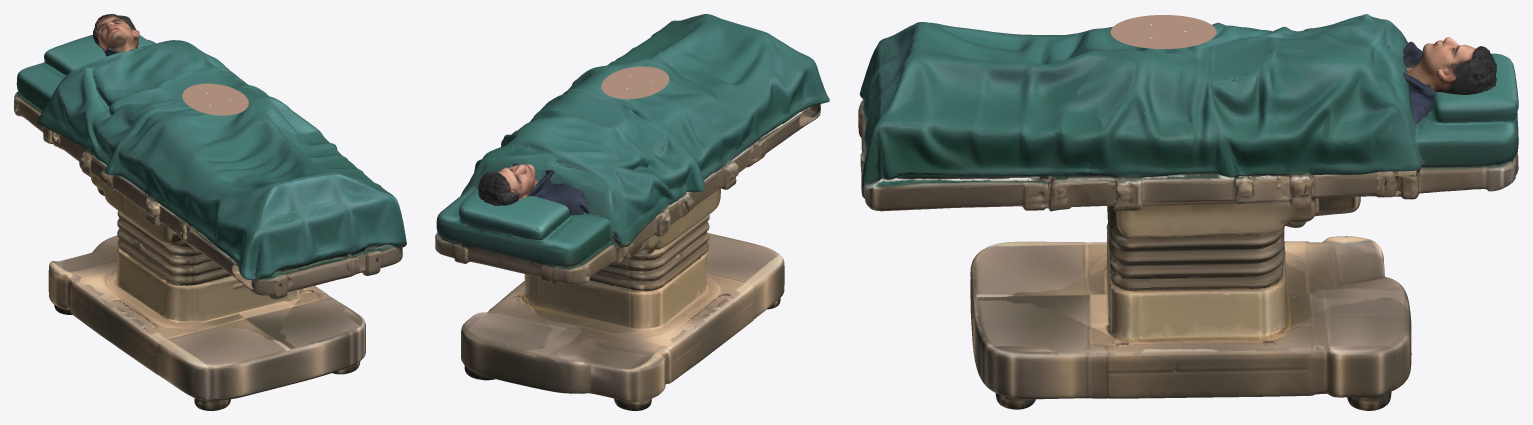
The model's file is bed.glb.
3 renders of one model, left to right at view 1: azimuth 30°, elevation 25°; view 2: azimuth 150°, elevation 25°; view 3: azimuth 270°, elevation 25°, orthographic. The views are drawn at different scales.
Parts seen in each view (by area): view 1: Lux3D_Operating_Assembly_0, Abdominal_Skin_Window, Zhou_Lux3D_Head_Reused; view 2: Lux3D_Operating_Assembly_0, Zhou_Lux3D_Head_Reused, Abdominal_Skin_Window; view 3: Lux3D_Operating_Assembly_0, Zhou_Lux3D_Head_Reused, Abdominal_Skin_Window.
Part boxes in pixels (x1,y1,x2,y2): Lux3D_Operating_Assembly_0: [14, 34, 406, 410]; Abdominal_Skin_Window: [182, 83, 248, 115]; Zhou_Lux3D_Head_Reused: [93, 14, 139, 56]; Lux3D_Operating_Assembly_0: [435, 14, 829, 410]; Zhou_Lux3D_Head_Reused: [477, 163, 589, 215]; Abdominal_Skin_Window: [601, 66, 669, 99]; Lux3D_Operating_Assembly_0: [858, 14, 1518, 410]; Zhou_Lux3D_Head_Reused: [1403, 37, 1496, 123]; Abdominal_Skin_Window: [1110, 15, 1216, 48].
Size of the model in its own units: 0.92 by 1.15 by 2.12.
Materials: 6 (2 with a texture image).
